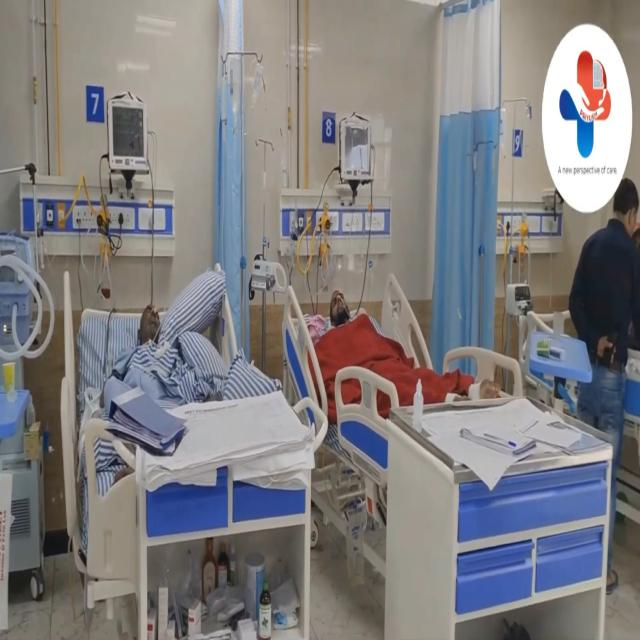Family-Member: (596, 179, 640, 523)
Patient: (110, 287, 217, 385), (314, 269, 388, 365)
